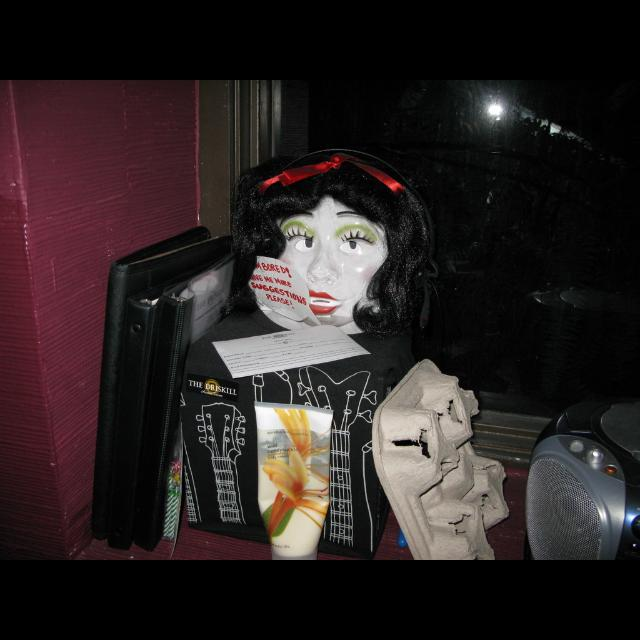Flower: (258, 446, 328, 536)
